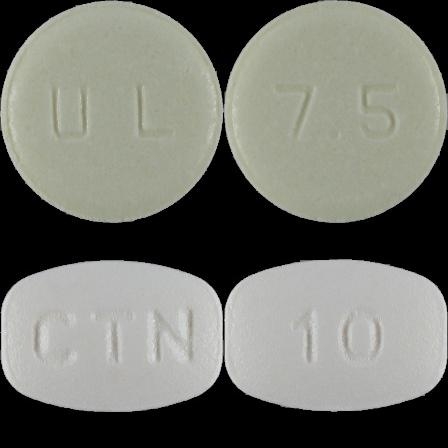10544-631: (0, 0, 224, 224)
